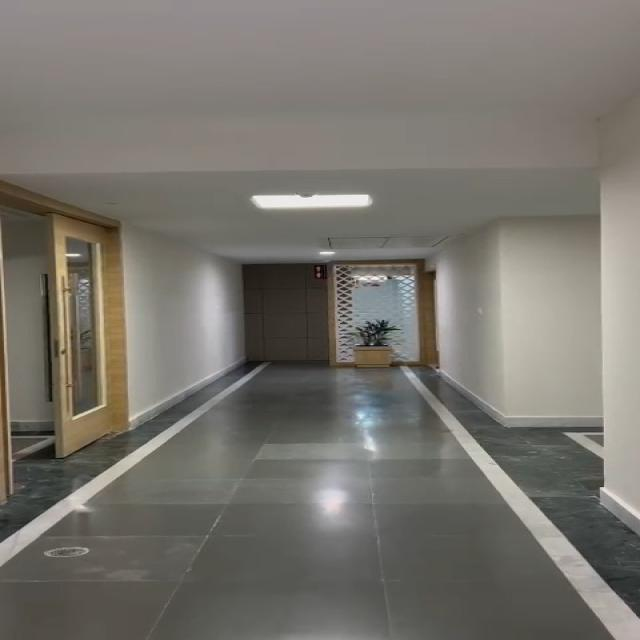door: (35, 189, 121, 455)
floor: (6, 453, 640, 640), (166, 379, 496, 454)
furniture: (347, 320, 409, 378)
wall: (454, 236, 640, 432), (123, 228, 251, 384)
